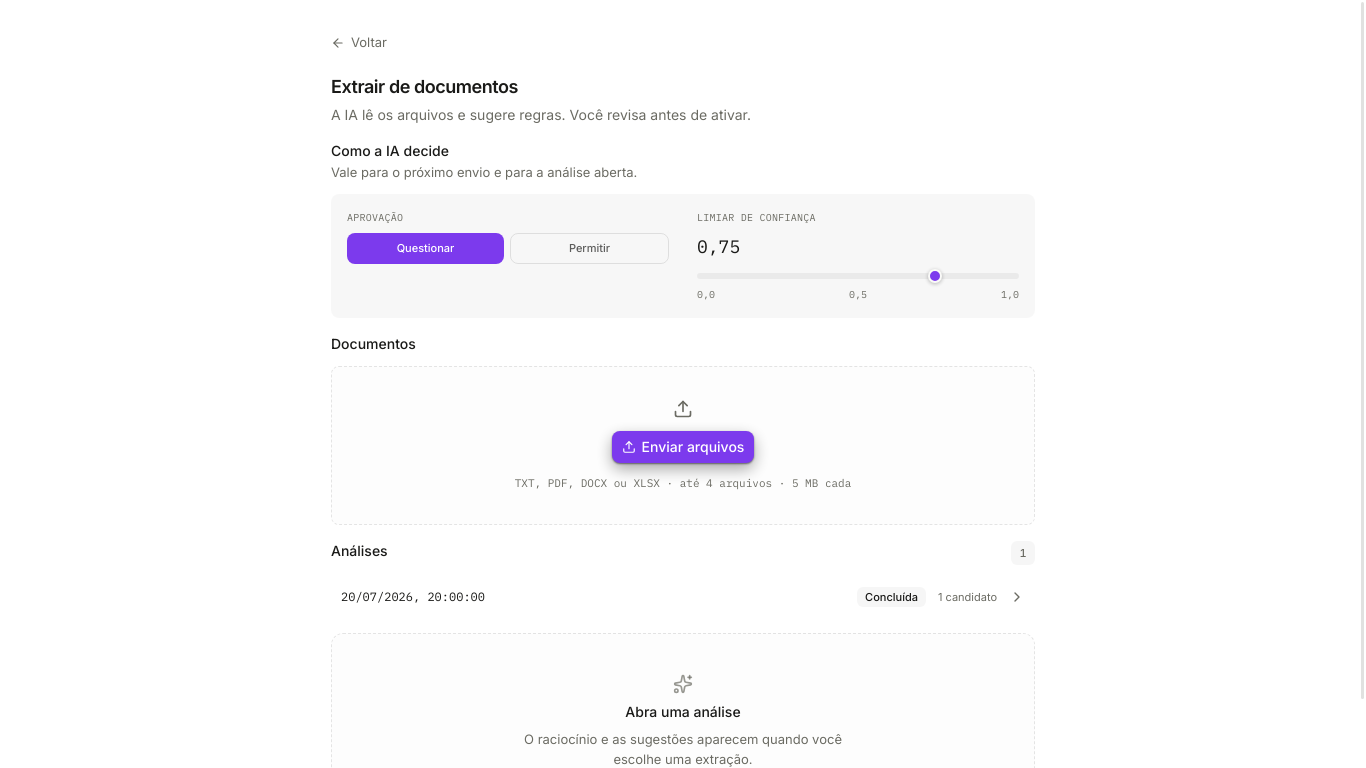
Scenario: RuleReviewPage › shows upload, controls and checklist for OWNER
Expected: the button with aria-label "Arraste arquivos ou clique para enviar" is shown, [331,366,1035,525]
Expected: the element named "Modo de aprovação" is shown, [347,233,669,264]
Step 1. Click the button "20/07/2026, 20:00:00 Concluída 1 candidato" → x=413, y=596, box [331,577,1035,617]
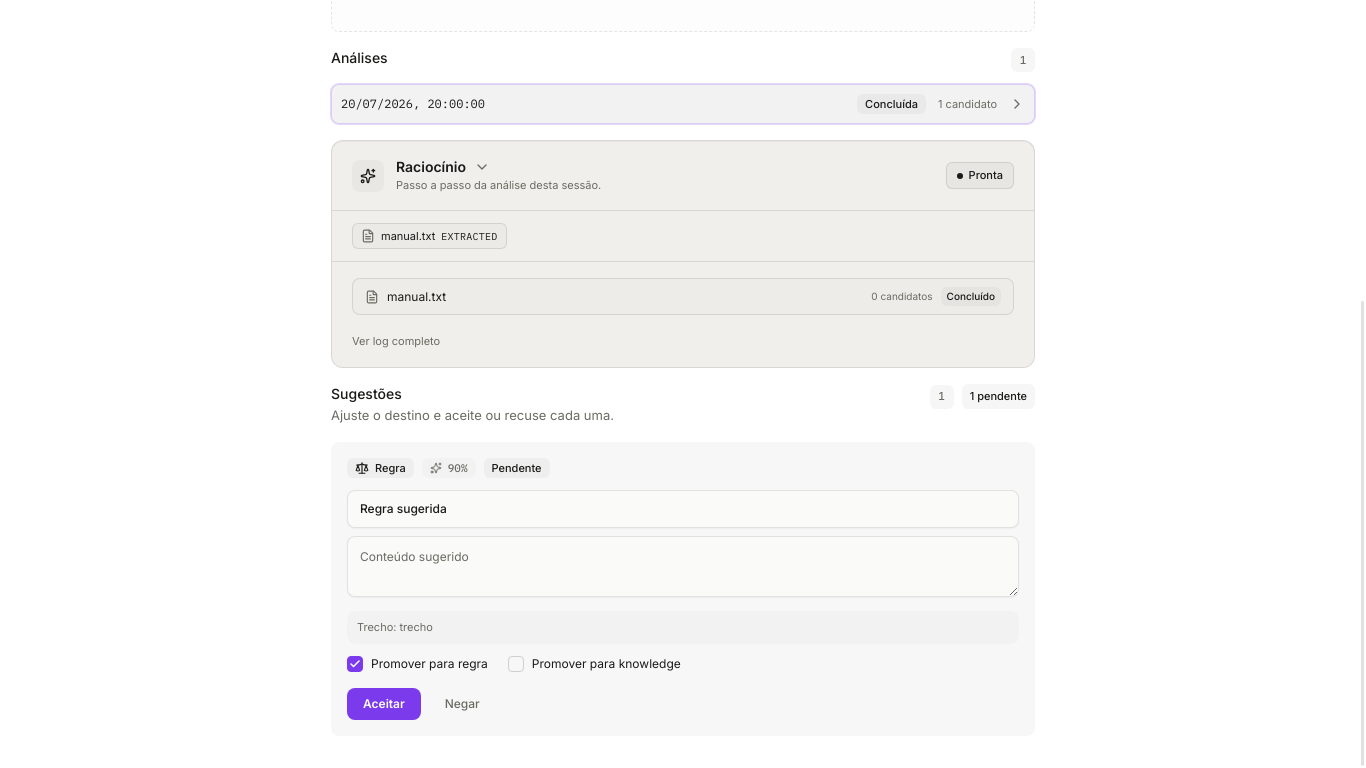
Expected: the heading "Raciocínio" is shown, [396,157,466,177]
Expected: the heading "Sugestões" is shown, [331,385,402,402]
Expected: the text "manual.txt" next to "EXTRACTED" is shown, [381,229,435,243]
